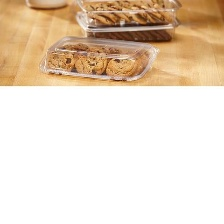plastic_box: (35, 31, 164, 85), (69, 0, 189, 47)
